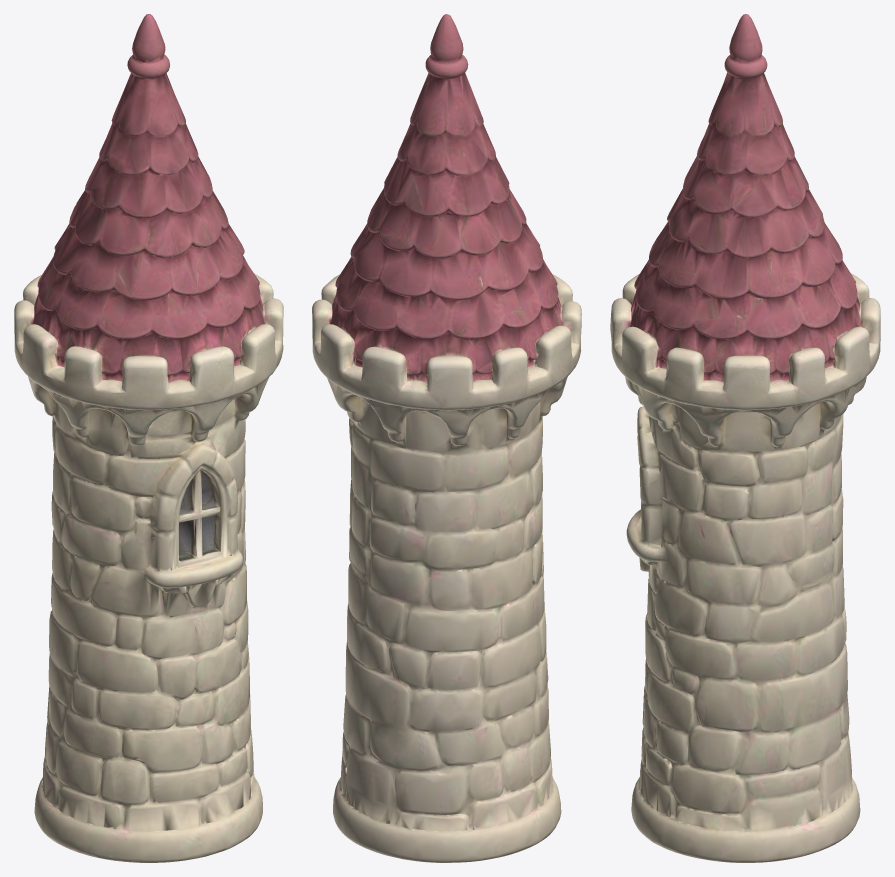
3 renders of one model, left to right at view 1: azimuth 30°, elevation 25°; view 2: azimuth 150°, elevation 25°; view 3: azimuth 270°, elevation 25°, orthographic.
Bounding box in the file's own units: 0.5801 × 1.9 × 0.5821.
Materials: 1 (1 with a texture image).
